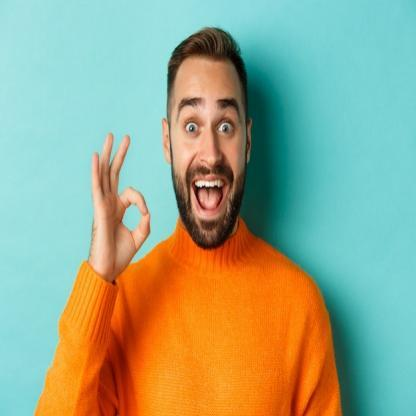ok: (90, 128, 152, 272)
